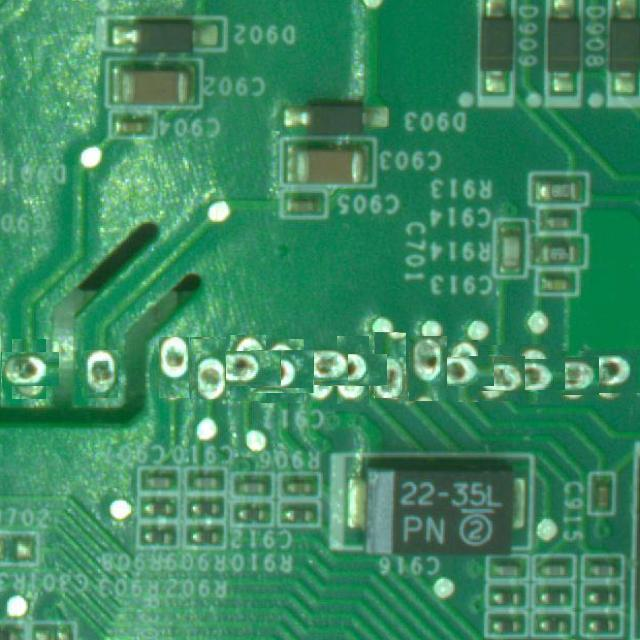lack_of_part: (255, 344, 309, 398), (223, 343, 274, 394), (408, 336, 447, 402), (328, 345, 378, 395), (291, 342, 341, 392), (190, 338, 226, 400), (6, 346, 53, 393), (590, 350, 636, 398), (512, 352, 558, 398), (440, 348, 486, 394), (374, 332, 406, 398), (474, 351, 520, 396), (551, 354, 596, 399), (158, 336, 189, 398), (84, 351, 118, 398)
